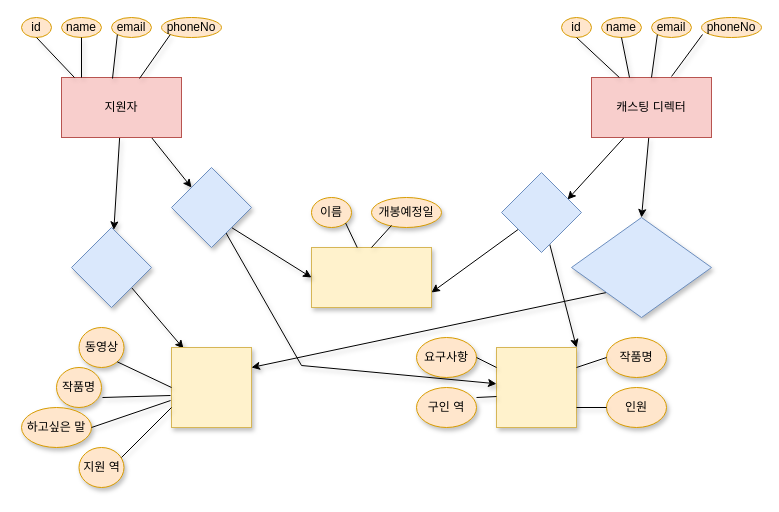
This 779x512 diagram has some shape labels left out. Here are the shapes that lost their labels. From the top down, the centre of each, then its label:
At [212,208]: "look".
At [541,212]: "submit".
At [112,268]: "apply".
At [372,278]: "작품".
At [642,268]: "look & choose or comment".
At [212,388]: "구인지원".
At [537,388]: "구인".
